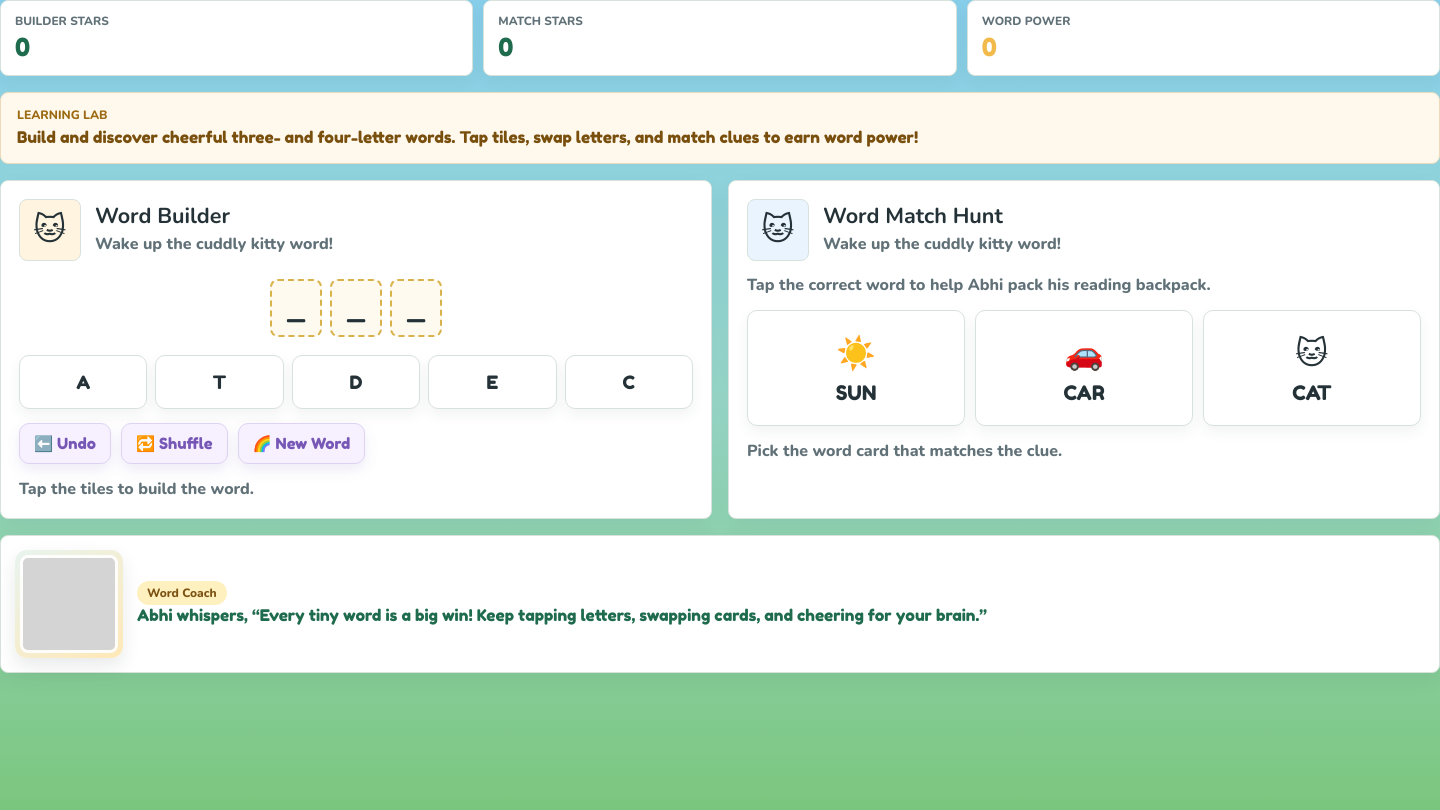
Test: LearningLab › matches the correct word card from the clue and updates score
Click the button "🐱 CAT": (1312, 368) x1=1203 y1=310 x2=1421 y2=426
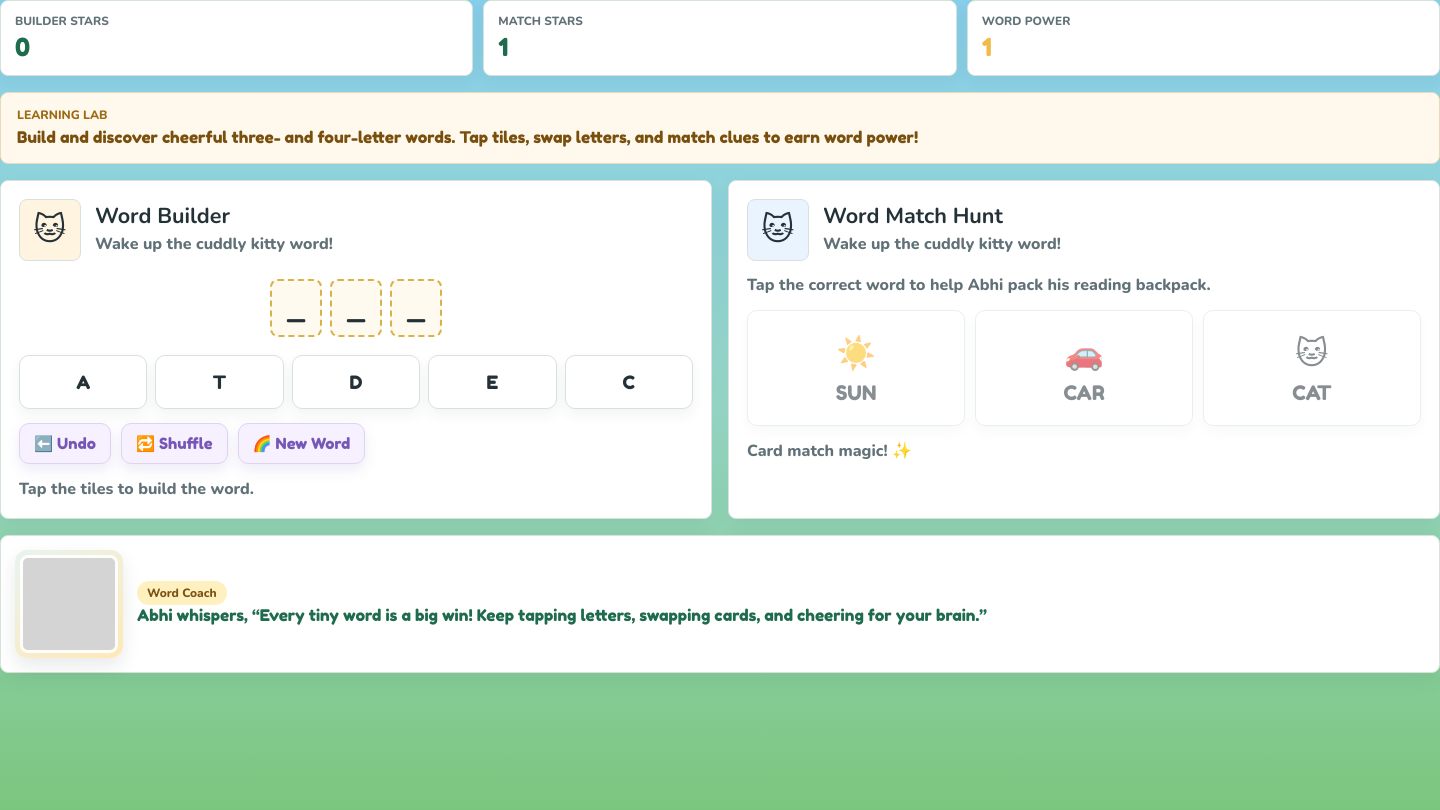
Result: the text "Card match magic! ✨" is shown at x1=747 y1=440 x2=912 y2=462
